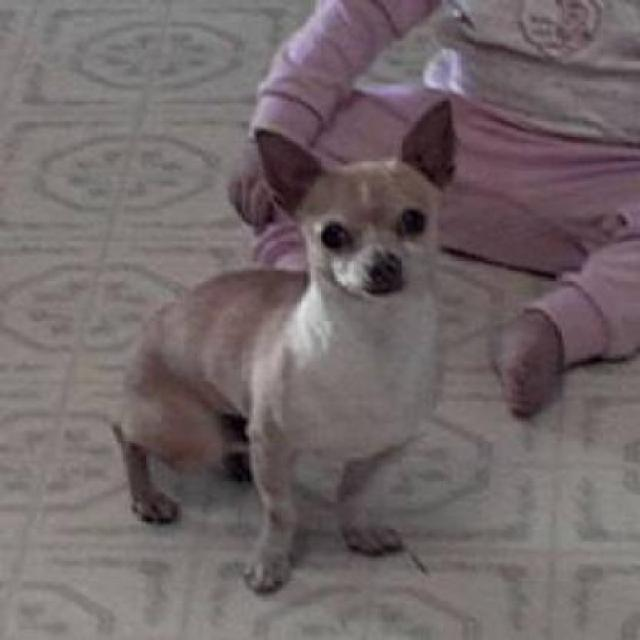Dog: (108, 100, 457, 594)
